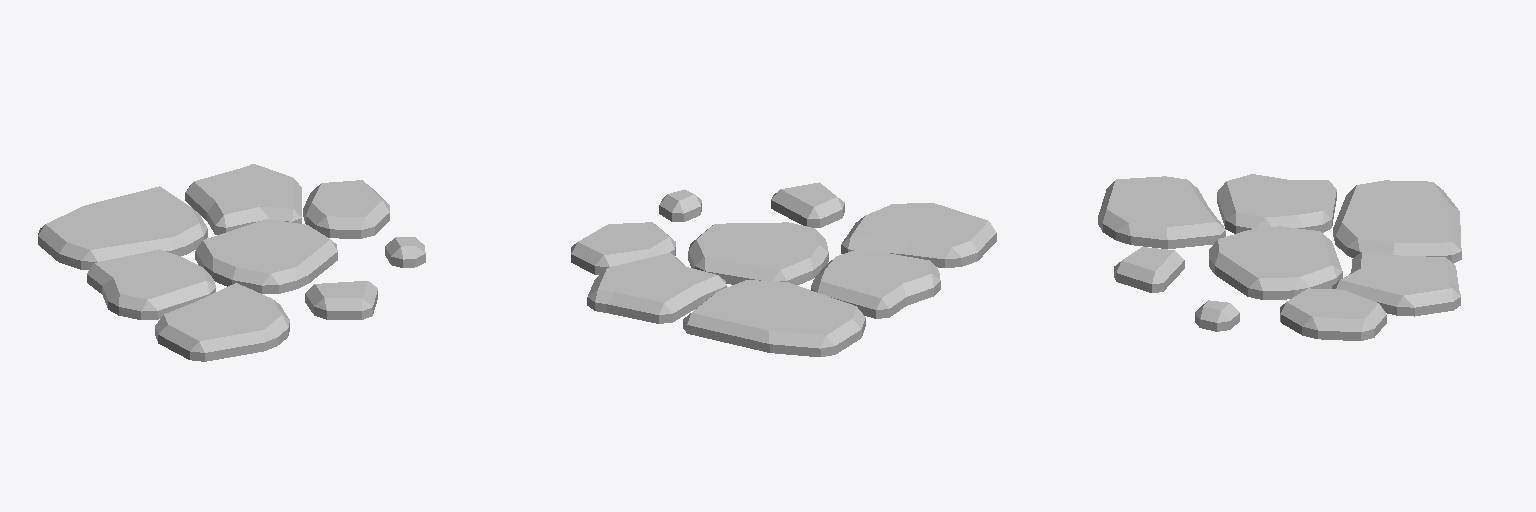
File: path_C.obj
The picture shows the model from 3 angles: view 1: azimuth 30°, elevation 25°; view 2: azimuth 150°, elevation 25°; view 3: azimuth 270°, elevation 25°; orthographic projection.
Visible parts, largest first — view 1: path_C_Cube.699; view 2: path_C_Cube.699; view 3: path_C_Cube.699.
Boxes of the visible parts, x1,y1,x2,y2 form: path_C_Cube.699: [38, 164, 425, 361]; path_C_Cube.699: [571, 182, 996, 356]; path_C_Cube.699: [1098, 174, 1461, 340].
Bounding box in the file's own units: 1.85 × 0.1 × 1.86.